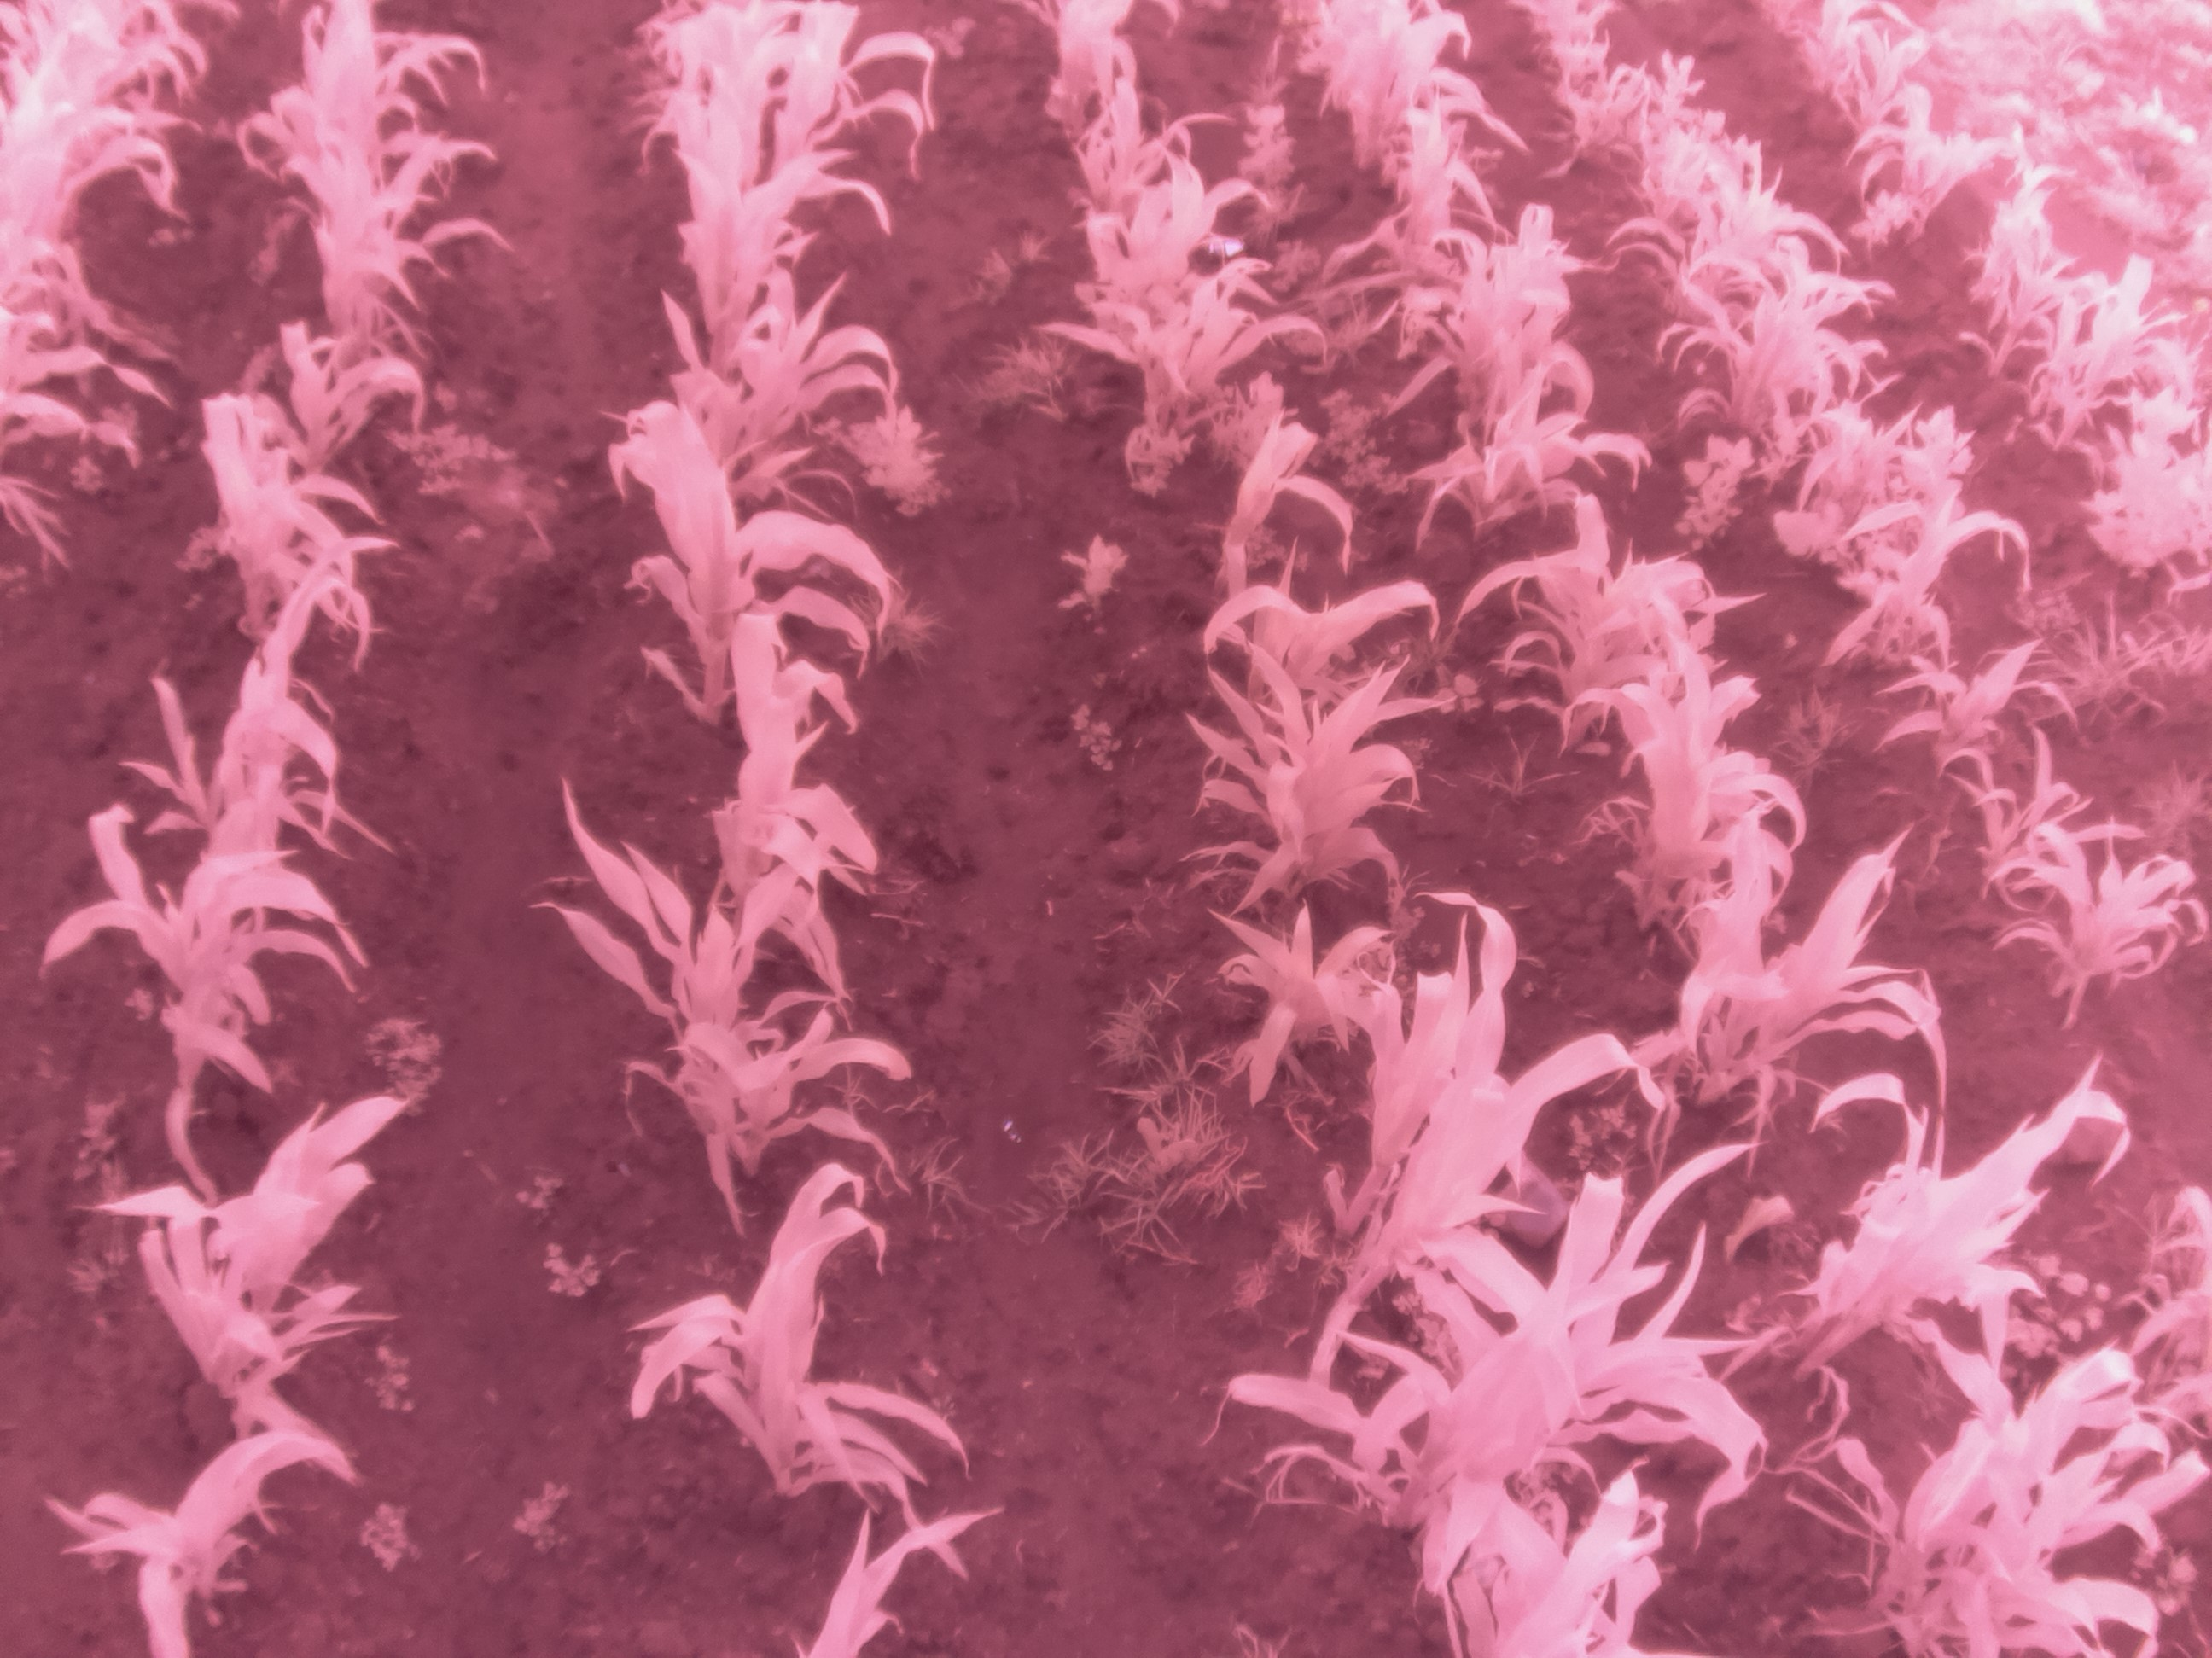Maiz: (1305, 1176, 1778, 1550), (542, 763, 887, 1177), (1353, 880, 1663, 1332), (1310, 979, 1686, 1341), (566, 373, 921, 721), (1764, 1087, 2146, 1404), (47, 791, 366, 1153), (66, 1113, 467, 1395), (1808, 1371, 2212, 1632), (613, 1198, 949, 1506), (1648, 831, 1939, 1149), (244, 131, 521, 449), (1580, 580, 1813, 953), (132, 571, 378, 914), (641, 251, 934, 536), (19, 1428, 364, 1658), (688, 573, 885, 975), (199, 343, 397, 718), (1174, 632, 1442, 899), (1472, 493, 1754, 745), (1651, 233, 1902, 516), (1059, 228, 1334, 465), (1390, 190, 1597, 489), (1055, 143, 1259, 427), (674, 1513, 1069, 1658), (1850, 397, 2050, 676), (653, 80, 826, 401), (773, 0, 975, 265), (0, 31, 164, 343), (1317, 71, 1493, 352), (1179, 890, 1435, 1078), (1439, 336, 1648, 563), (1634, 160, 1864, 364), (303, 0, 489, 246), (1202, 378, 1388, 620), (1989, 812, 2209, 1010), (0, 228, 150, 517), (1158, 564, 1454, 709), (2013, 247, 2202, 468), (244, 312, 446, 489), (1834, 632, 2062, 789), (636, 0, 773, 259), (1287, 9, 1480, 183), (1839, 101, 2022, 282), (1757, 361, 1907, 575), (1613, 99, 1770, 301), (1909, 731, 2107, 873), (1036, 80, 1217, 233), (1958, 164, 2094, 366), (2087, 371, 2212, 554), (1012, 0, 1153, 155), (1606, 38, 1723, 221), (1815, 14, 1946, 171), (1566, 45, 1681, 192), (1552, 0, 1629, 82)
